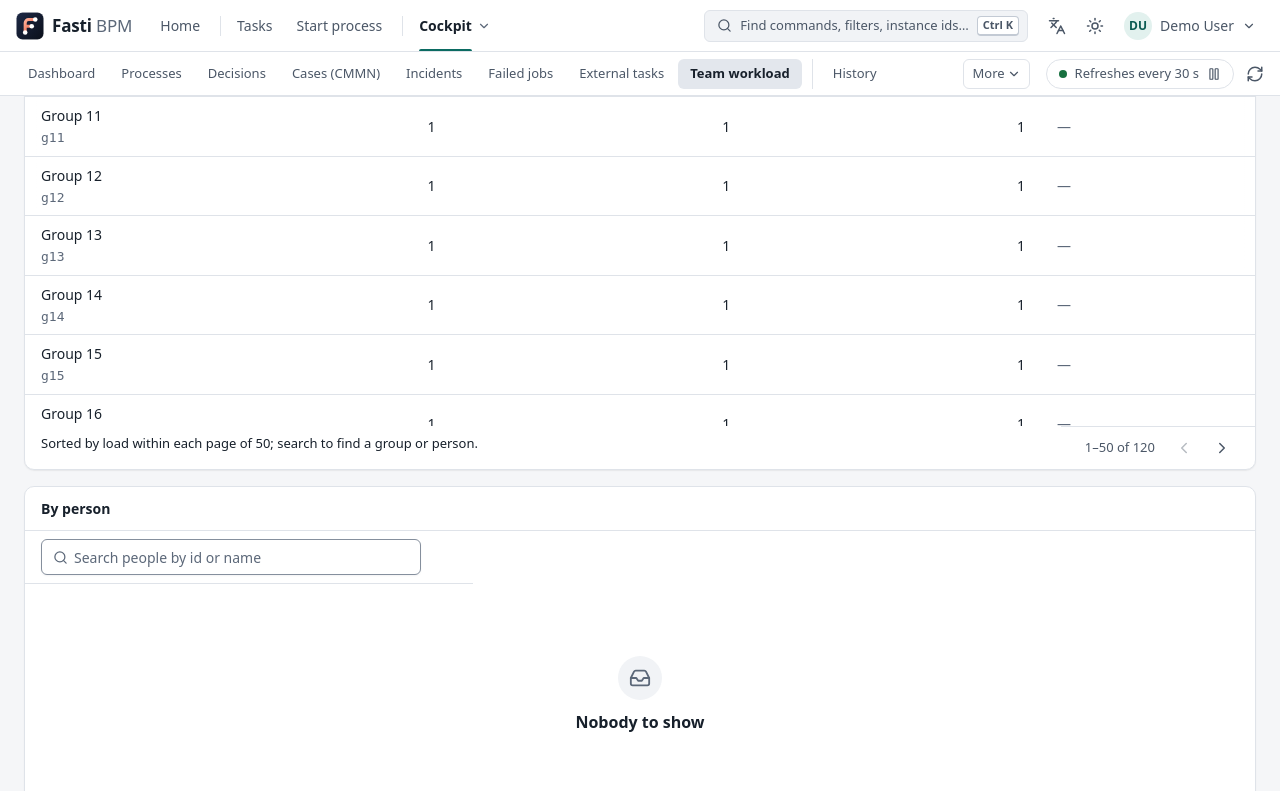
Test: team workload › pages through many groups and searches people by id and name
(page scrolled)
Expected: the text "1–50 of 120" is shown, [1085, 438, 1155, 456]
Expected: the text "Sorted by load within each page of 50" is shown, [41, 434, 478, 452]
Click the button named "Next page": (1222, 448) [1205, 431, 1239, 465]
(page scrolled)
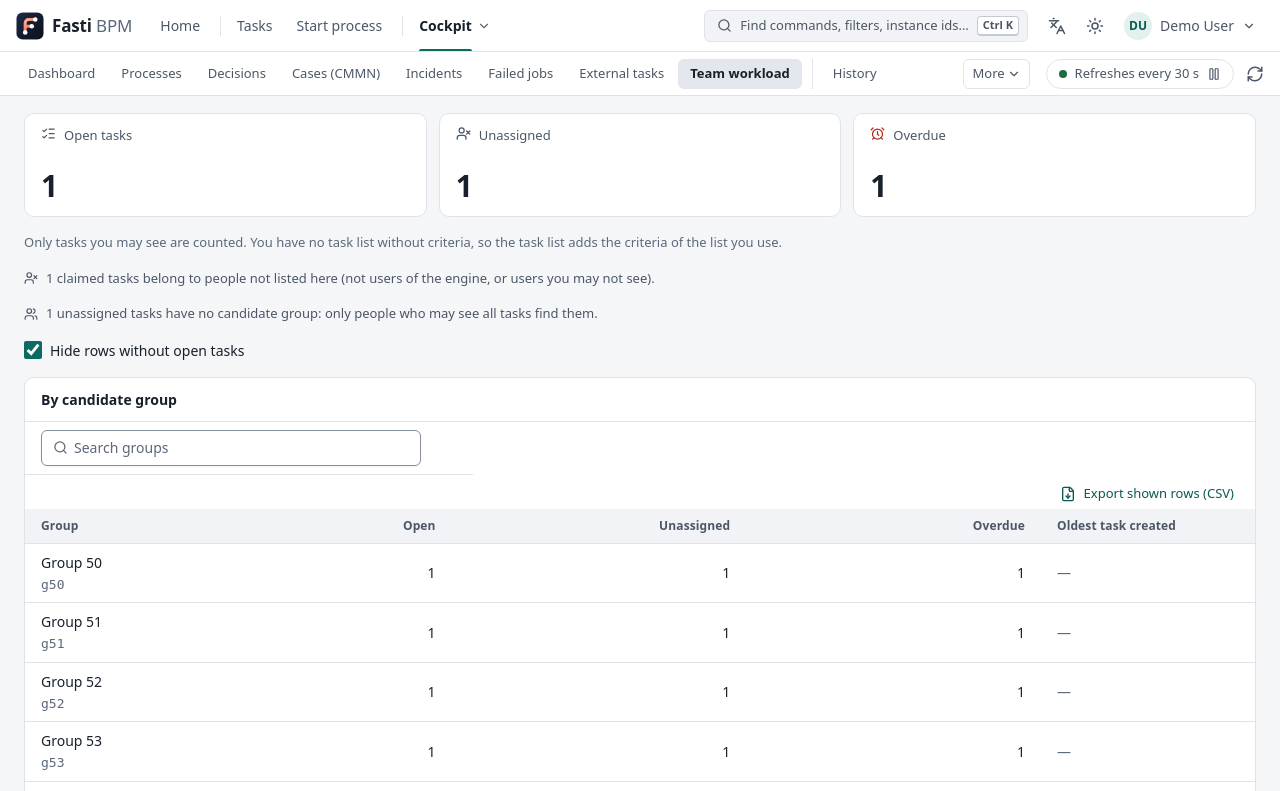
In the search field labelled "Search groups": (231, 448) [41, 430, 421, 466], type "oper"
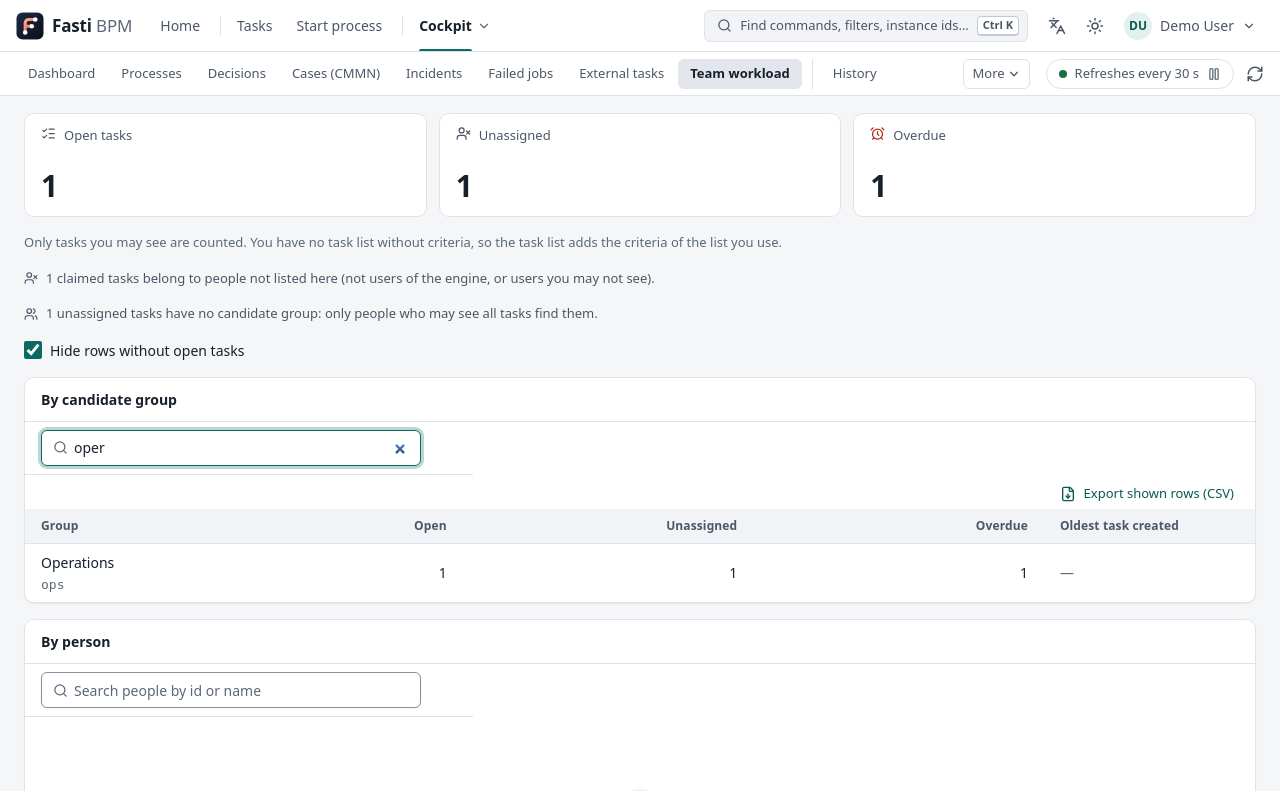
Result: the text "Operations" is shown at [41, 553, 114, 572]
In the search field labelled "Search people by id or name": (231, 690) [41, 672, 421, 708], type "le"
(page scrolled)
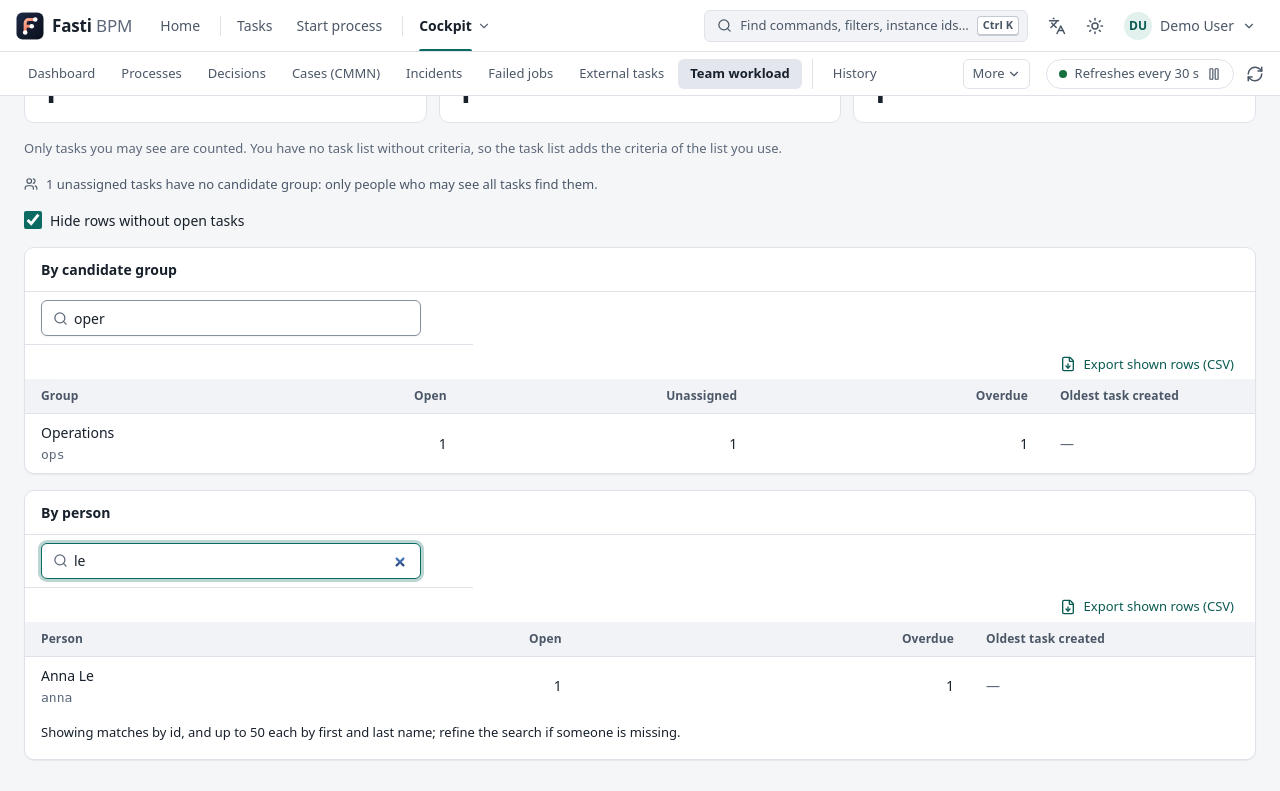
Result: the text "Anna Le" is shown at [41, 666, 94, 685]
Result: the text "up to 50 each by first and last name" is shown at [41, 723, 680, 741]
